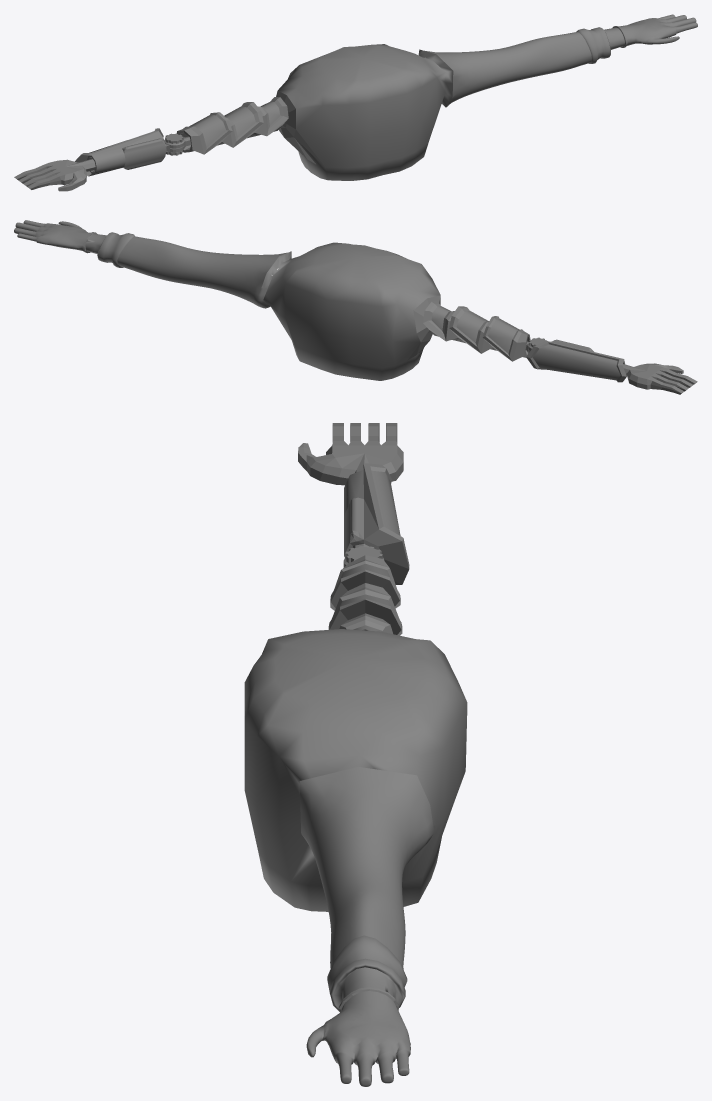
File: Player-Rig_Final-Model.fbx
3 renders of one model, top to bottom at view 1: azimuth 30°, elevation 25°; view 2: azimuth 150°, elevation 25°; view 3: azimuth 270°, elevation 25°, orthographic. The views are drawn at different scales.
Parts seen in each view (by area): view 1: Player_Rig; view 2: Player_Rig; view 3: Player_Rig.
Part boxes in pixels (bbox=[...]): Player_Rig: bbox=[14, 14, 697, 191]; Player_Rig: bbox=[14, 220, 697, 394]; Player_Rig: bbox=[244, 423, 467, 1086].
Size of the model in its own units: 10.94 by 1.58 by 1.57.
